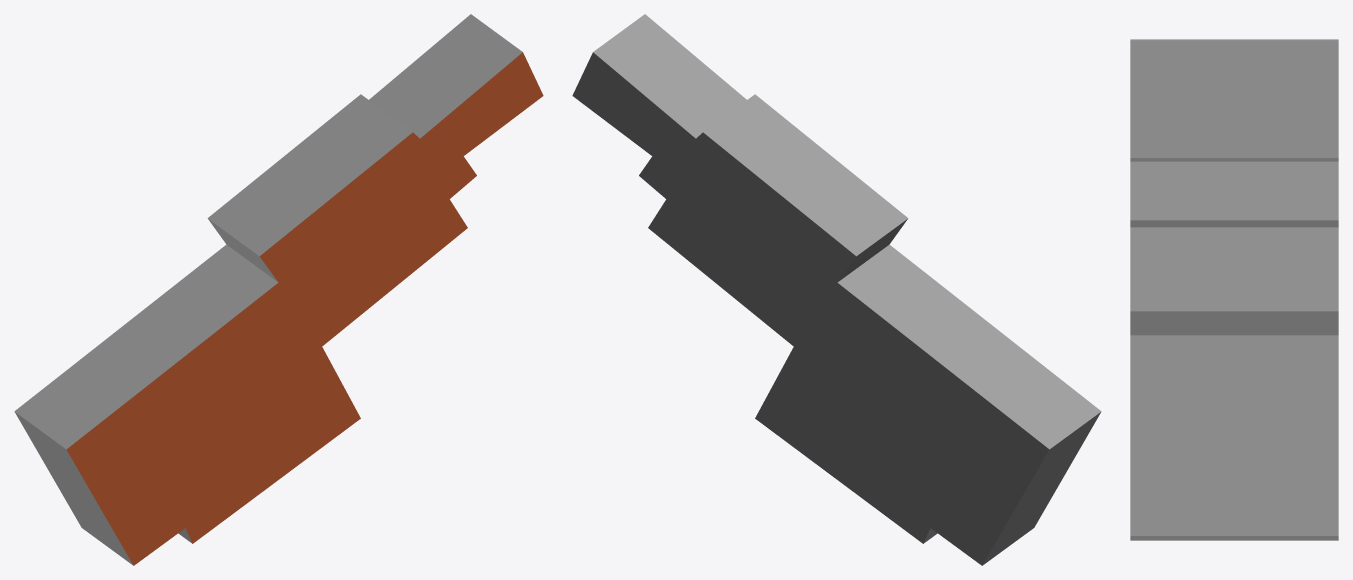
File: construction_3875_assumed_A_Casa_h6m.obj
3 renders of one model, left to right at view 1: azimuth 30°, elevation 25°; view 2: azimuth 150°, elevation 25°; view 3: azimuth 270°, elevation 25°, orthographic. The views are drawn at different scales.
Visible parts, largest first — view 1: construction_3875_assumed_A_Casa; view 2: construction_3875_assumed_A_Casa; view 3: construction_3875_assumed_A_Casa.
Boxes of the visible parts, bbox=[...] form: construction_3875_assumed_A_Casa: bbox=[14, 14, 543, 565]; construction_3875_assumed_A_Casa: bbox=[572, 14, 1101, 565]; construction_3875_assumed_A_Casa: bbox=[1130, 39, 1338, 540].
Size of the model in its own units: 31.75 by 26.63 by 6.
